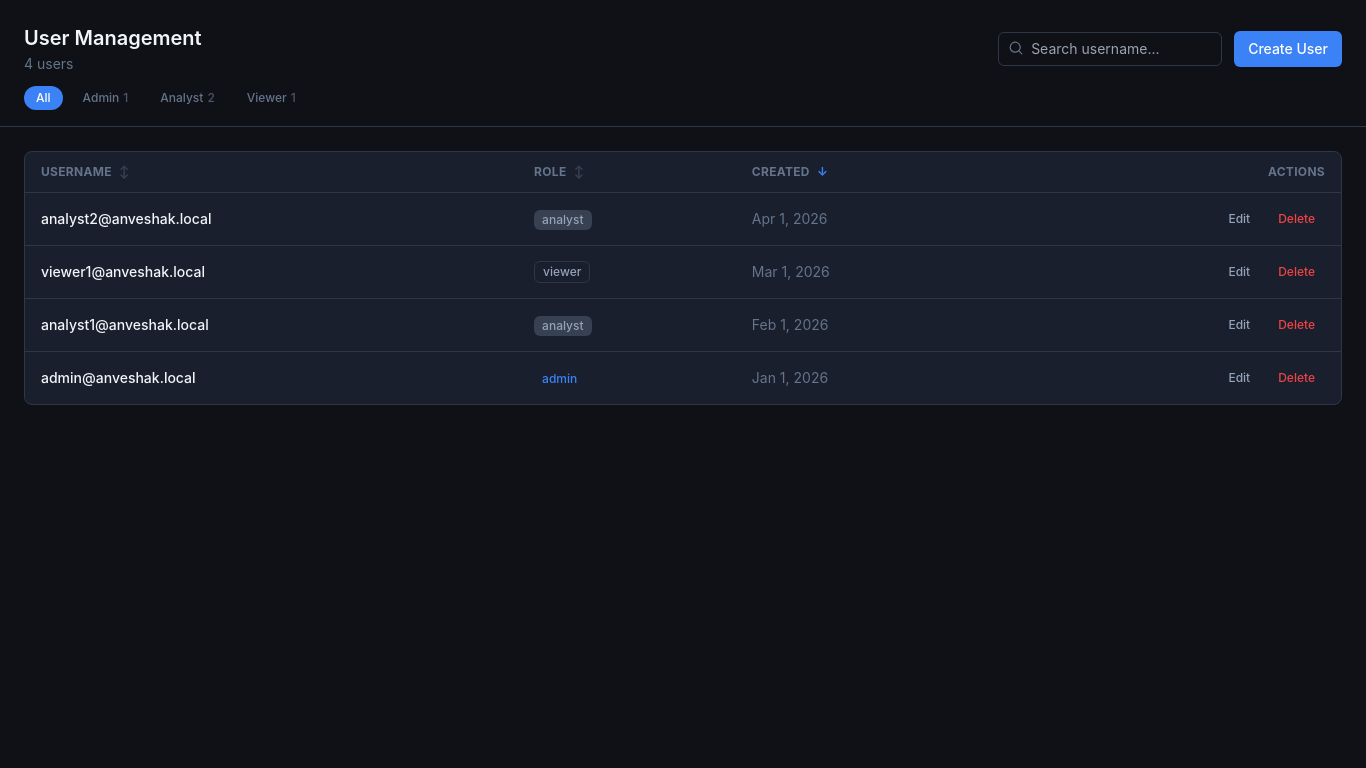
UserManagement page › create modal includes viewer role option
Click the button "Create User" at (1288, 49), box [1234,31,1342,67]
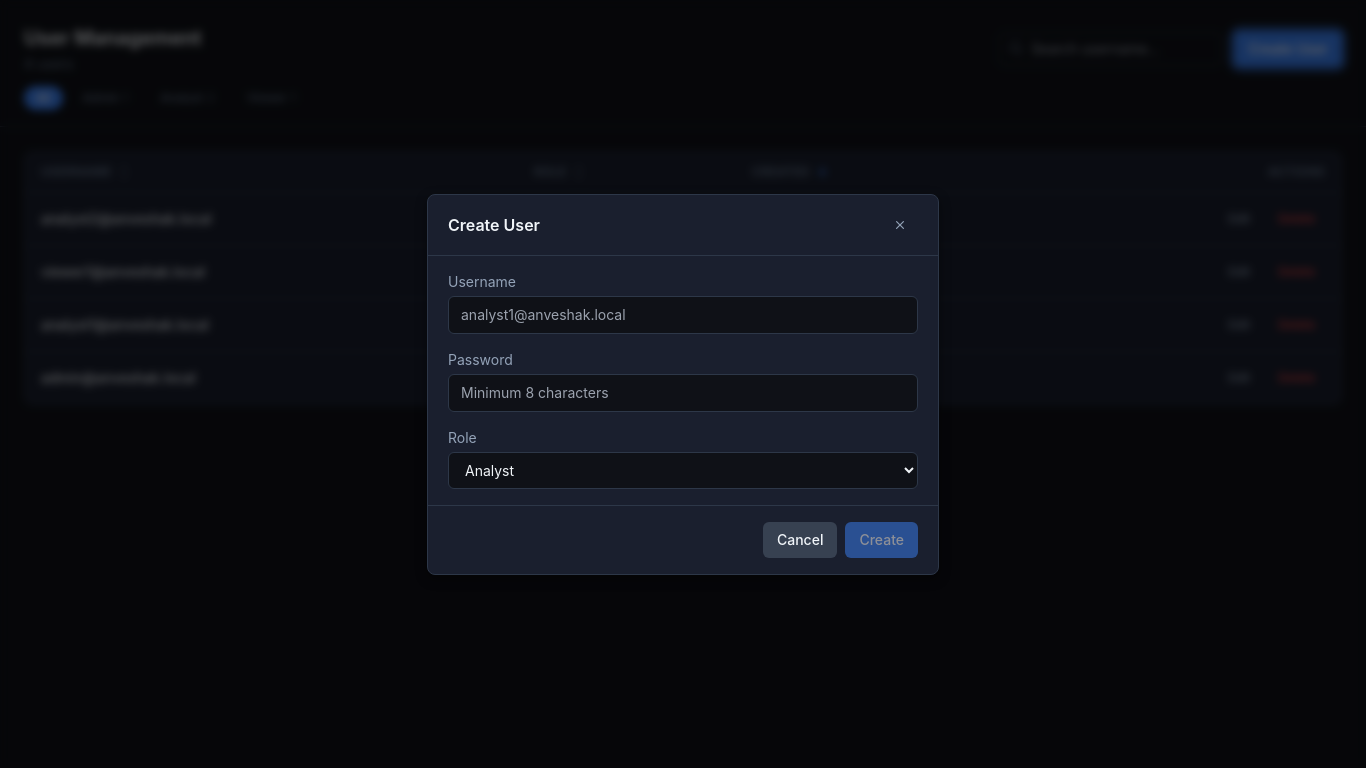
expect the dropdown showing "Analyst" is shown: met, box [448,452,918,488]
